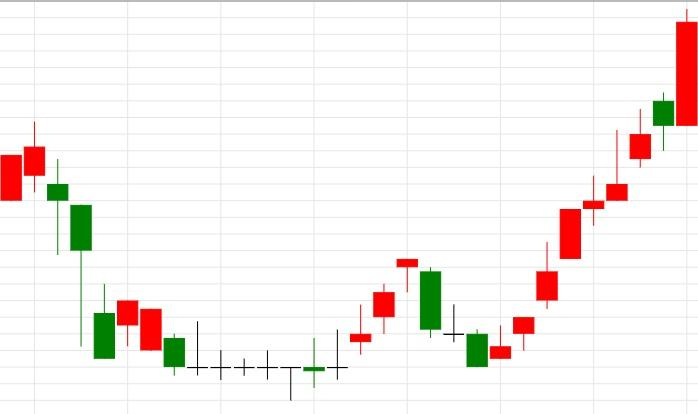three_white_soldiers_rise: (396, 241, 559, 368)
